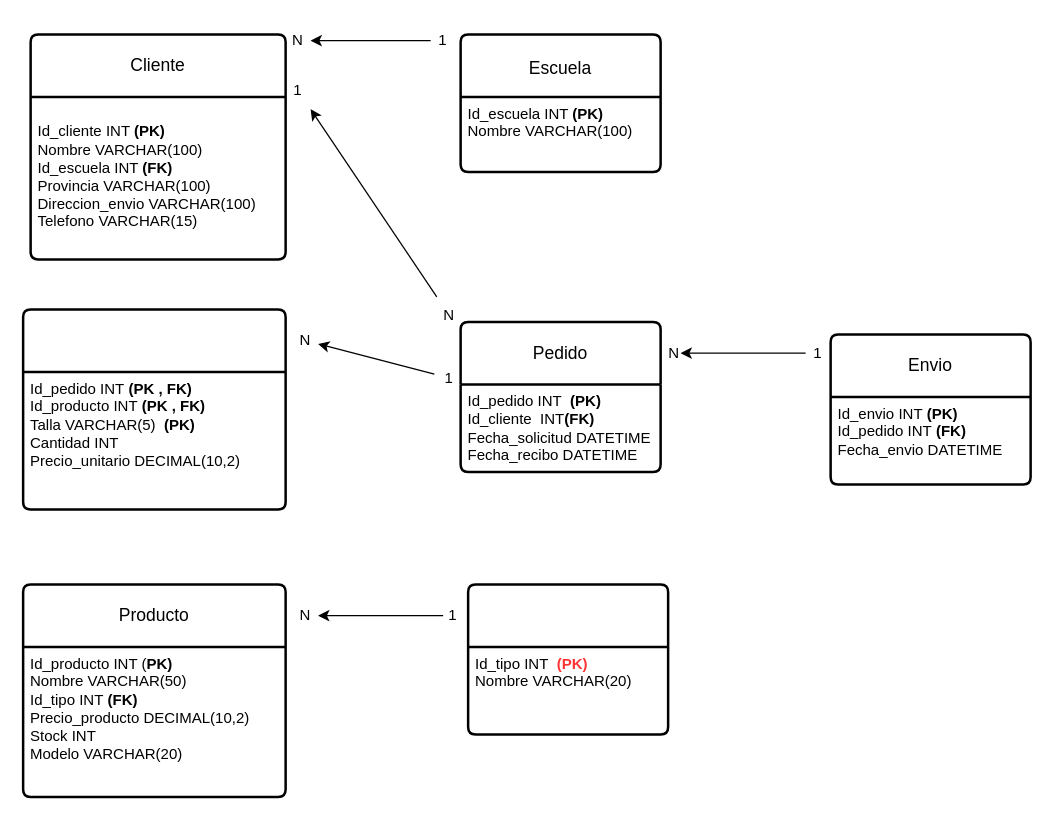
The diagram is 1053 pixels wide and 819 high, and some of its shapes have lost their labels. The box of each missing label's shape, as (x1, y1, x2, y2) in pixels:
Detalle_pedido: (21, 308, 286, 510)
Tipo_producto: (466, 582, 669, 735)
